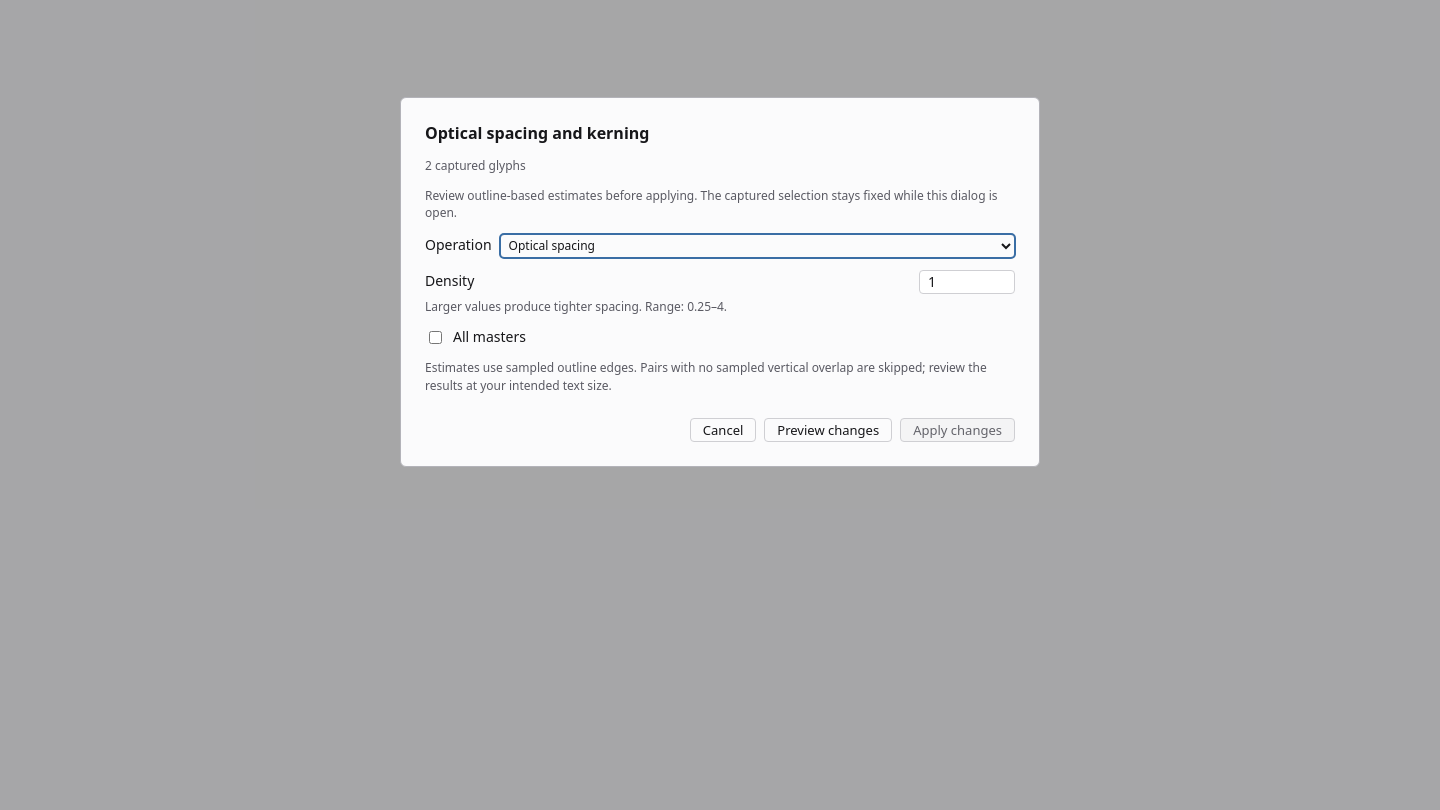
requires a preview and shows actual sidebearings, widths and skipped reason counts
The width and height of the screenshot is (1440, 810).
Expected: the dialog "Optical spacing and kerning" is shown, 400,97 -> 1040,467
Expected: the number field labelled "Density" holds "1", 919,270 -> 1015,294
What coordinates should you click on to do the following:
click the button "Preview changes"
I would click on:
 (828, 430)
Its box is 764,418 -> 892,442.
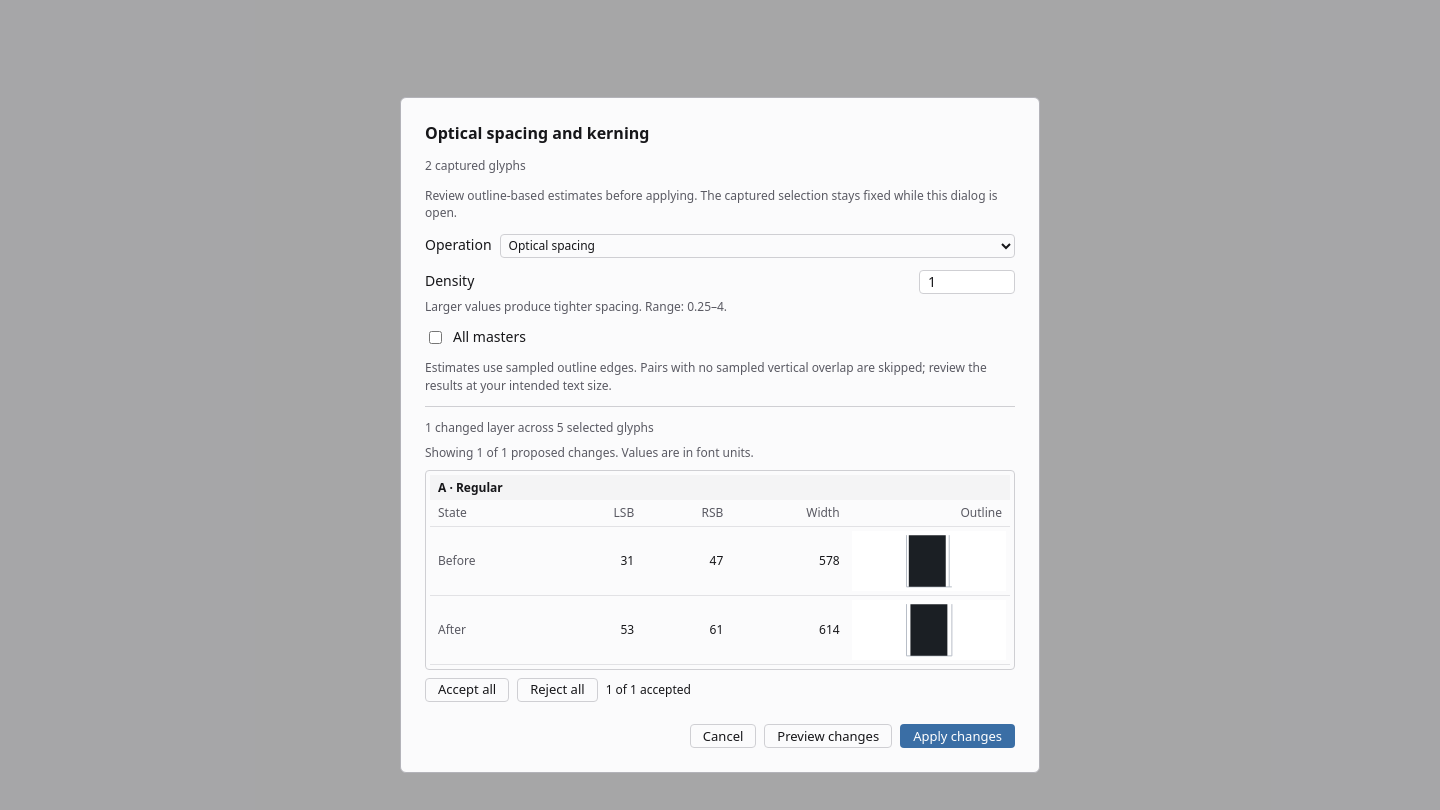
Expected: the message reads "1 changed layer across 5 selected glyphs", 425,419 -> 654,436
Expected: the table "A · Regular" shows "Before", 438,552 -> 476,569
Expected: the table "A · Regular" shows "After", 438,621 -> 466,638
